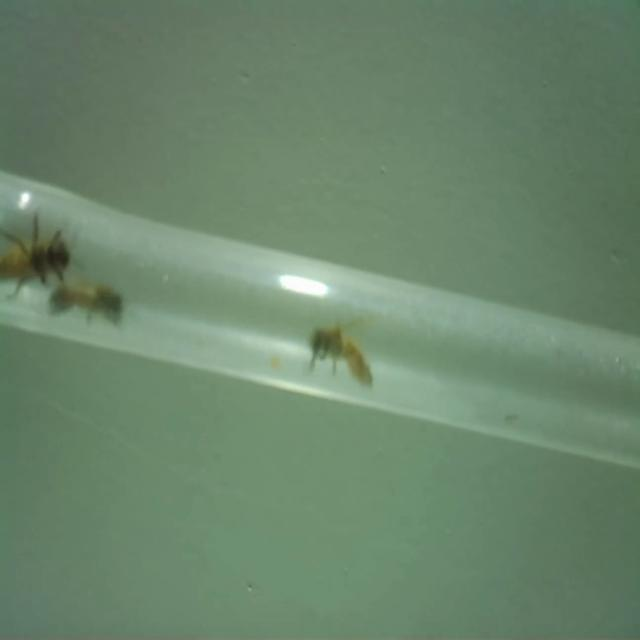Honeybee-Detection: (0, 211, 75, 298), (308, 314, 374, 390), (49, 284, 122, 324)
